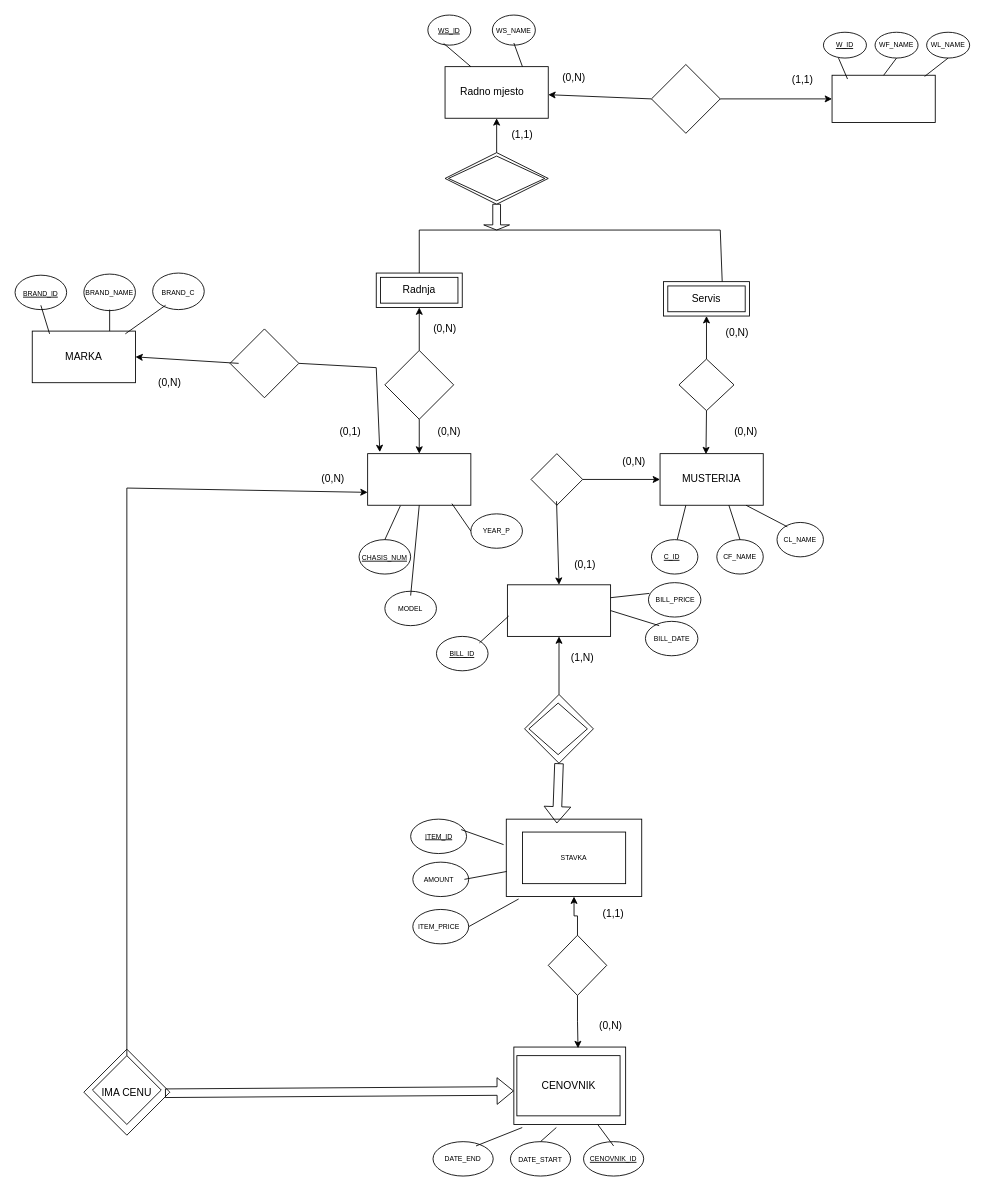
This 989x1191 diagram has some shape labels left out. The centre of each missing label's shape, as x and y in pixels:
"Automobil" belongs at point 419,479.
"DOLAZI NA" belongs at point 706,384.
"IMA PROIZVOD" belongs at point 577,964.
"IS-A" belongs at point 496,178.
"PRIPADA" belongs at point 557,728.
"Radi" belongs at point 685,98.
"RAČUN" belongs at point 559,610.
"SE IZDAJE" belongs at point 556,479.
"Se nalazi" belongs at point 419,384.
"Za" belongs at point 264,363.
"Zaposleni" belongs at point 883,98.
